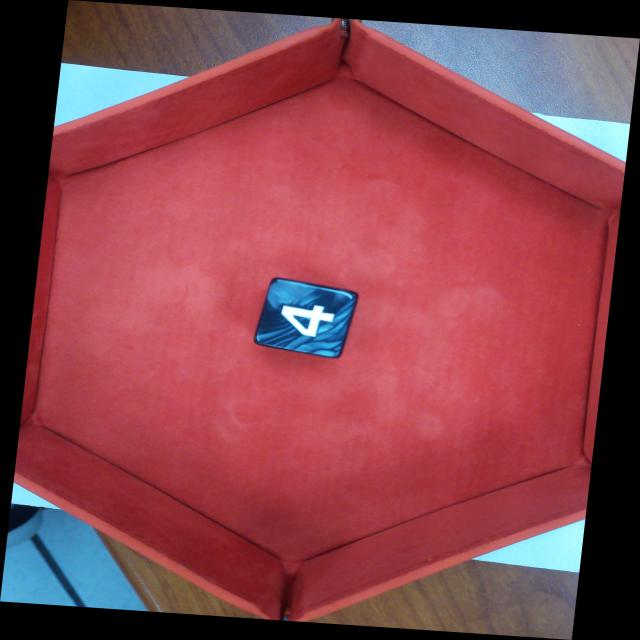dice: (252, 276, 361, 360)
